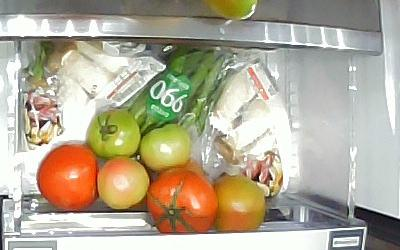tomato: (146, 169, 217, 234), (36, 144, 98, 211), (214, 173, 265, 233), (96, 156, 149, 210), (85, 108, 140, 158), (139, 122, 191, 170)
